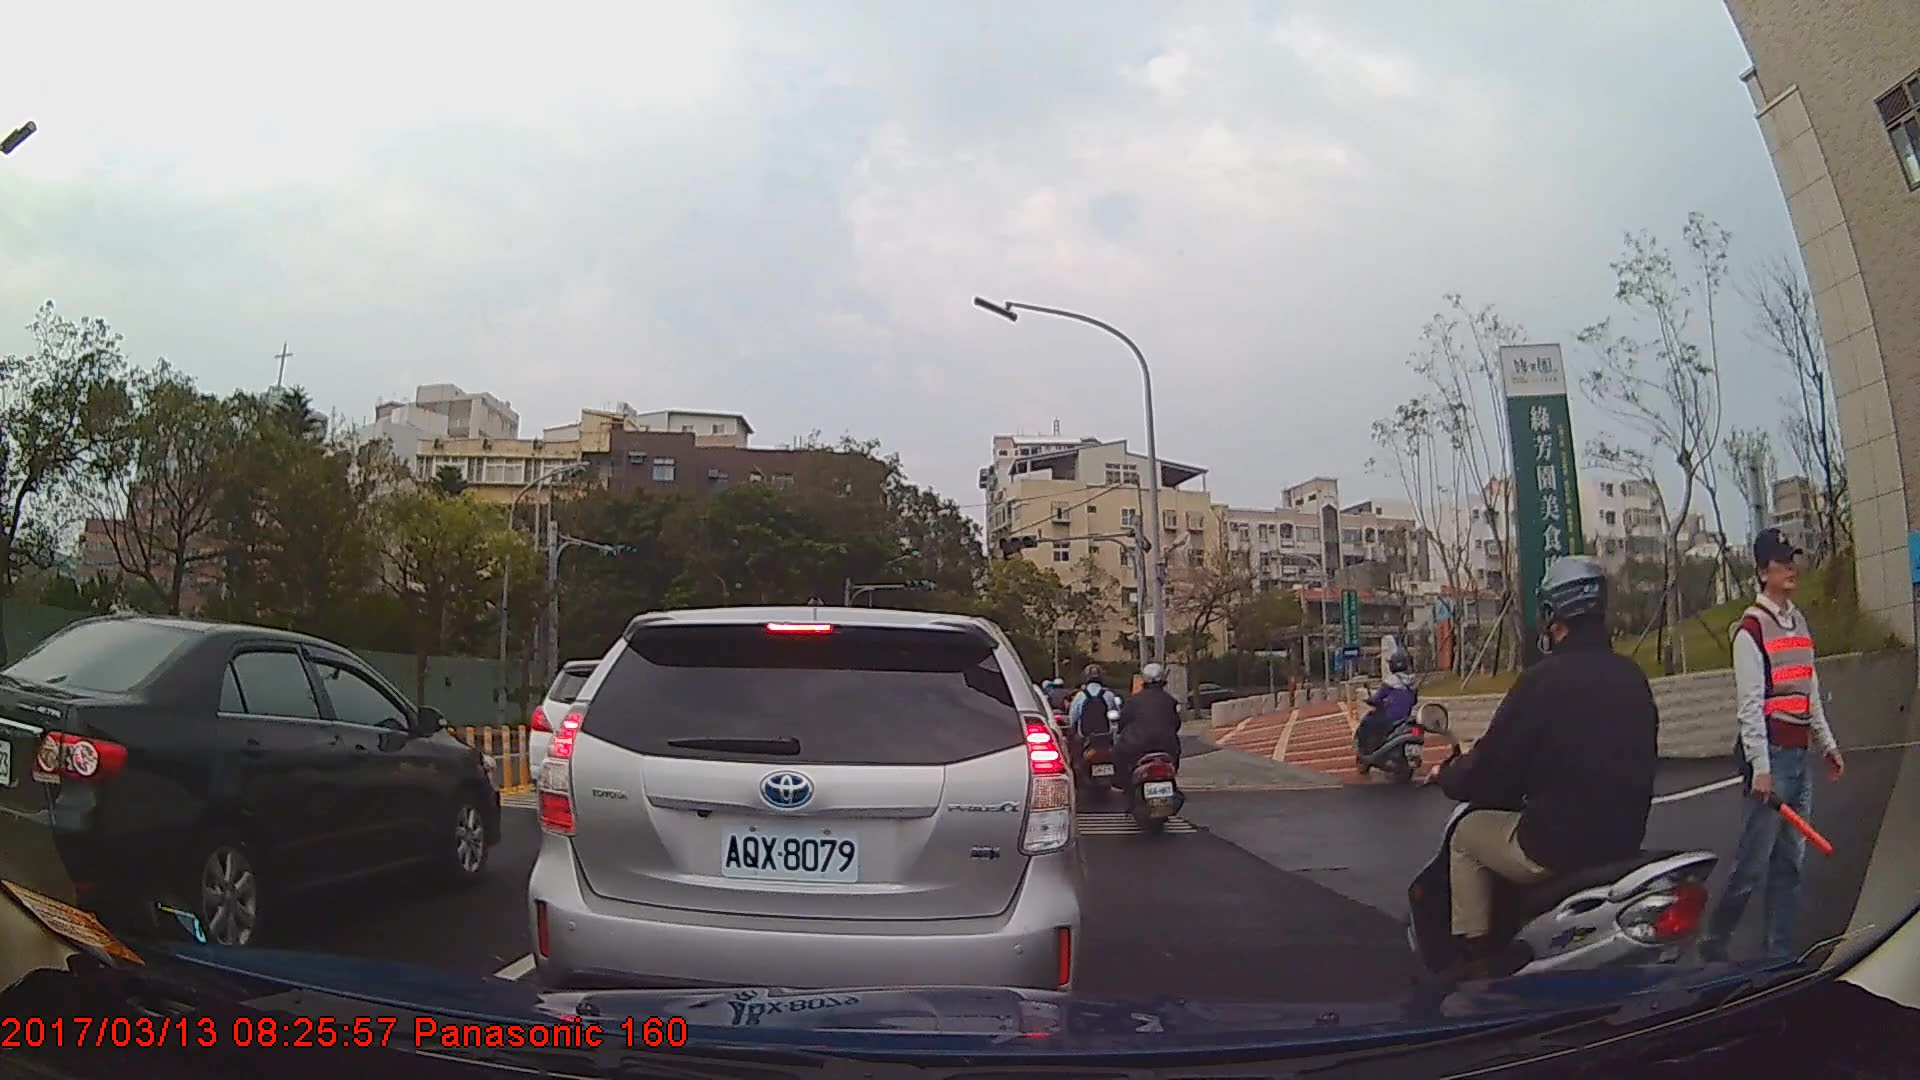pedestrian: (1734, 526, 1852, 971)
rider: (1400, 557, 1725, 1052), (1113, 660, 1187, 836), (1352, 653, 1428, 784), (1066, 662, 1125, 807)
vehicle: (527, 603, 1080, 1031), (0, 613, 500, 951), (1165, 679, 1233, 713)
